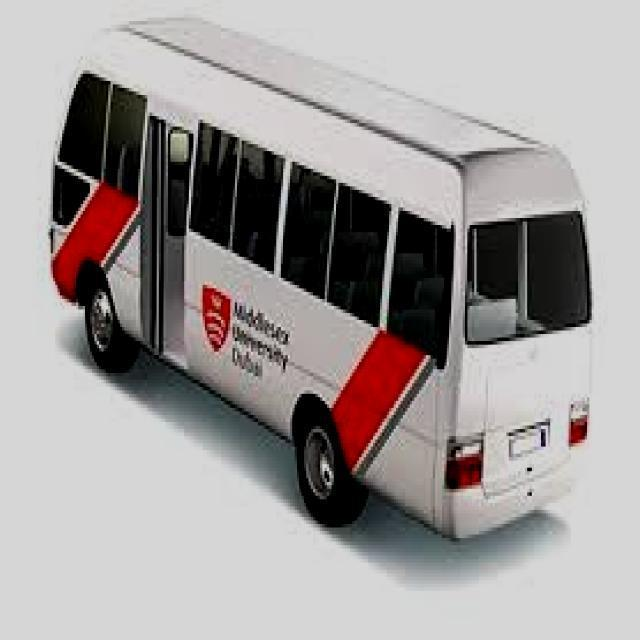Bus: (39, 0, 607, 553)
